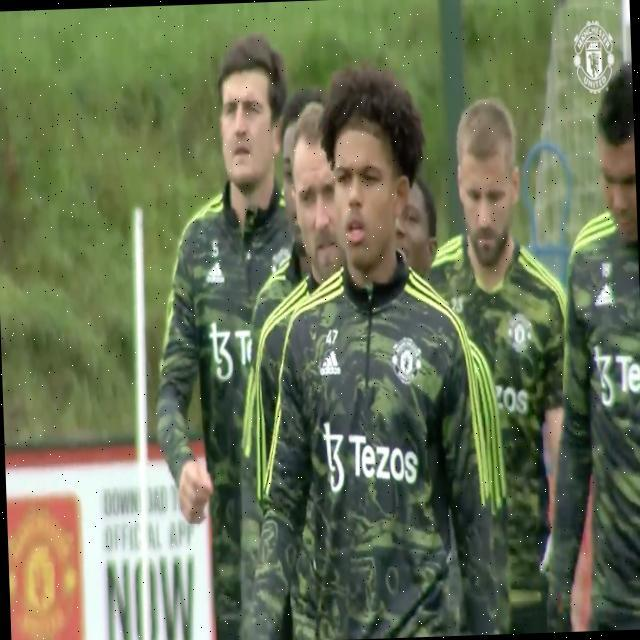Adidas: (318, 351, 341, 378), (593, 282, 616, 309), (205, 259, 226, 286)
